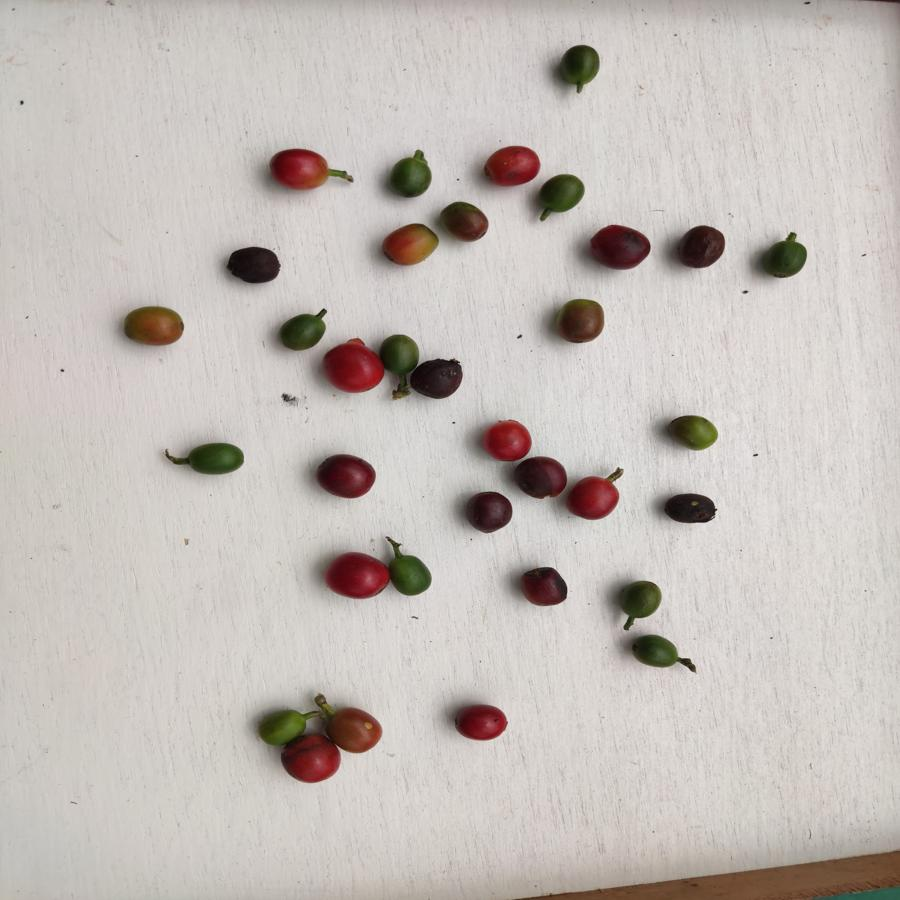Inmaduro: (186, 441, 249, 479), (758, 236, 810, 282), (386, 157, 438, 198), (615, 578, 664, 621), (538, 174, 585, 218), (387, 554, 435, 597), (281, 312, 326, 354), (378, 332, 420, 376), (561, 44, 603, 86), (630, 636, 683, 668)
Maduro: (279, 735, 343, 790), (323, 342, 388, 394), (327, 550, 393, 601), (268, 146, 333, 188), (481, 144, 542, 187), (568, 473, 619, 522), (453, 704, 515, 744), (484, 418, 533, 464)
Pinton: (123, 305, 192, 349), (327, 705, 380, 759), (380, 221, 439, 269), (553, 295, 606, 345), (666, 414, 723, 451), (259, 706, 308, 745)
Sobremaduro: (588, 220, 653, 274), (314, 452, 380, 500), (413, 357, 471, 403), (515, 563, 572, 609), (677, 221, 728, 270), (228, 245, 285, 288), (511, 458, 569, 499), (659, 490, 724, 526), (463, 491, 514, 534)
